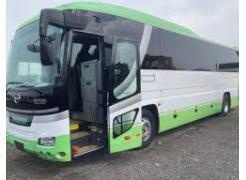bus: (12, 5, 239, 160)
